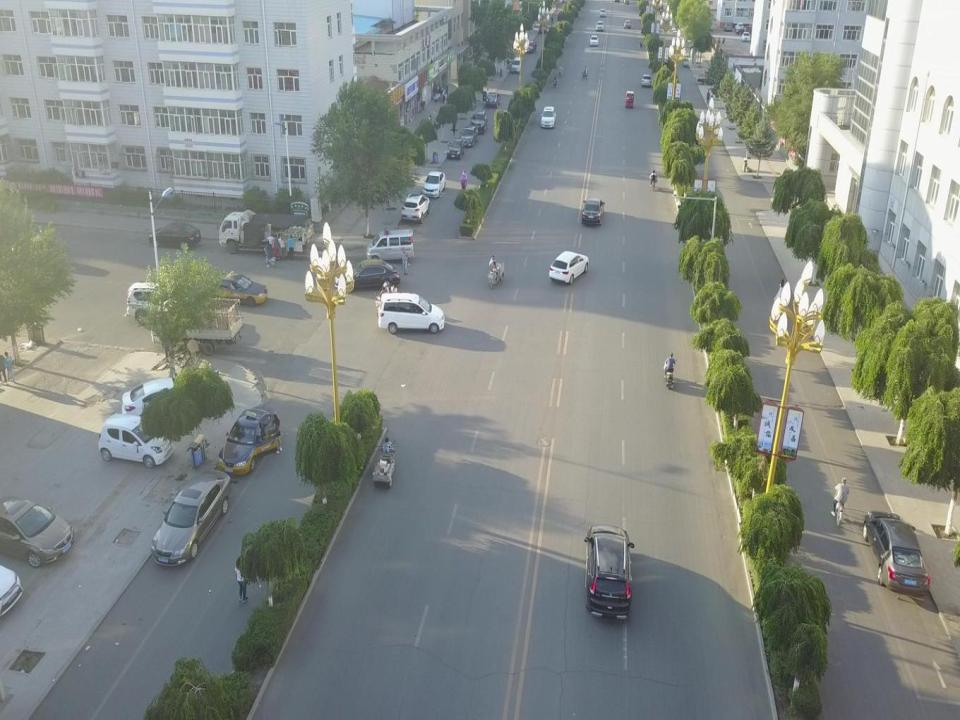car: (150, 468, 232, 568), (862, 508, 930, 596), (0, 494, 75, 568), (584, 523, 634, 621), (217, 407, 279, 475), (99, 412, 174, 468), (120, 376, 198, 426), (378, 292, 446, 333), (126, 281, 187, 325), (204, 270, 268, 307), (333, 258, 400, 293), (148, 222, 201, 250), (548, 250, 589, 284), (400, 193, 431, 225), (581, 197, 605, 226), (421, 171, 446, 197), (470, 109, 488, 134), (459, 126, 478, 147), (447, 137, 465, 159), (540, 105, 556, 128), (485, 92, 500, 109), (641, 74, 652, 88), (525, 41, 535, 54), (588, 35, 599, 46), (723, 22, 733, 31), (742, 31, 750, 42), (596, 21, 604, 31), (734, 23, 744, 31), (539, 23, 547, 33), (623, 20, 632, 28), (598, 8, 606, 17)
truck: (150, 297, 244, 355), (217, 209, 314, 255), (694, 68, 725, 86)
van: (366, 228, 414, 264), (506, 56, 523, 74)
